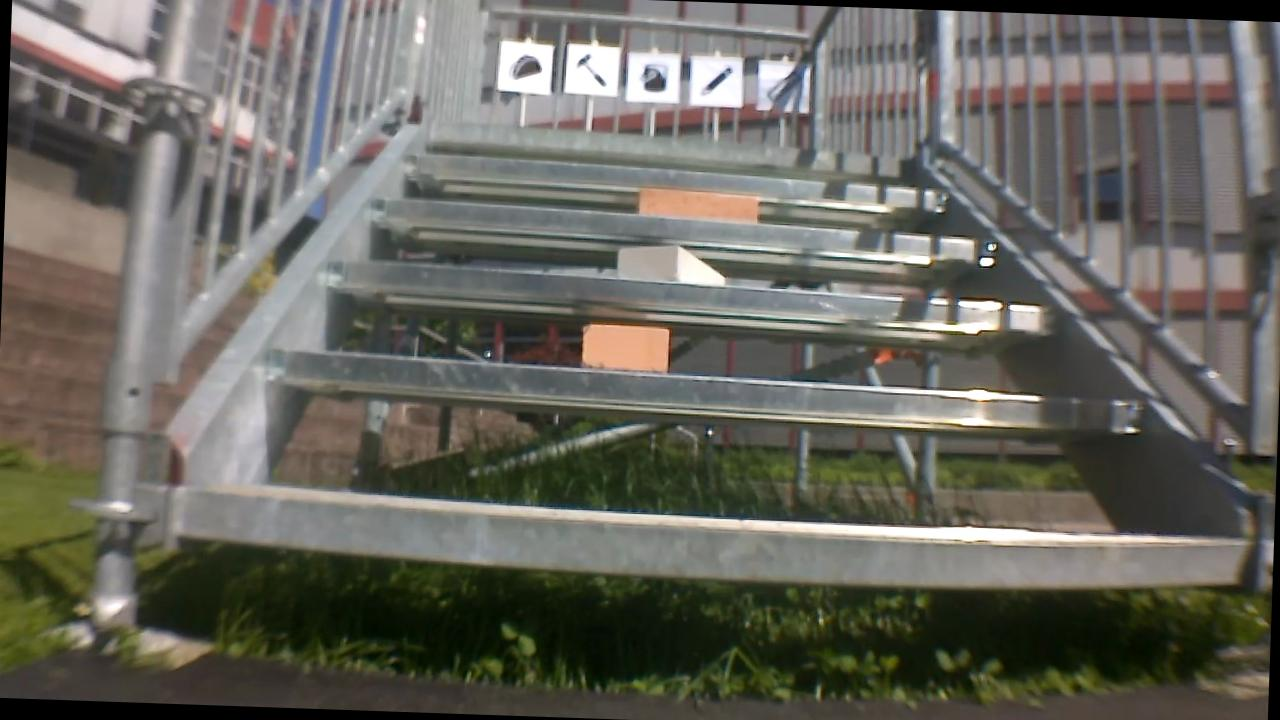brick: (614, 240, 734, 286), (576, 321, 677, 371), (634, 189, 761, 217)
edge: (173, 501, 1262, 580), (257, 353, 1154, 421), (318, 256, 1072, 330), (358, 203, 1010, 260), (396, 152, 958, 204), (419, 128, 918, 167)
steps: (150, 119, 1280, 594)
